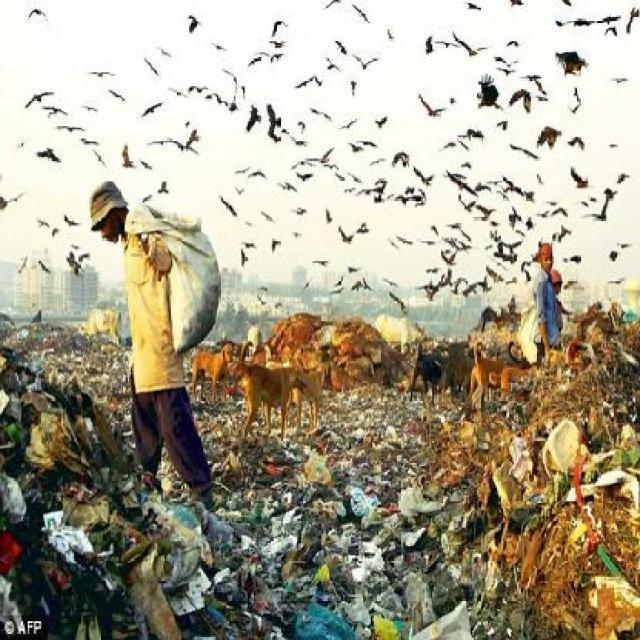garbage: (208, 429, 447, 638), (453, 385, 640, 640), (3, 343, 119, 630)
